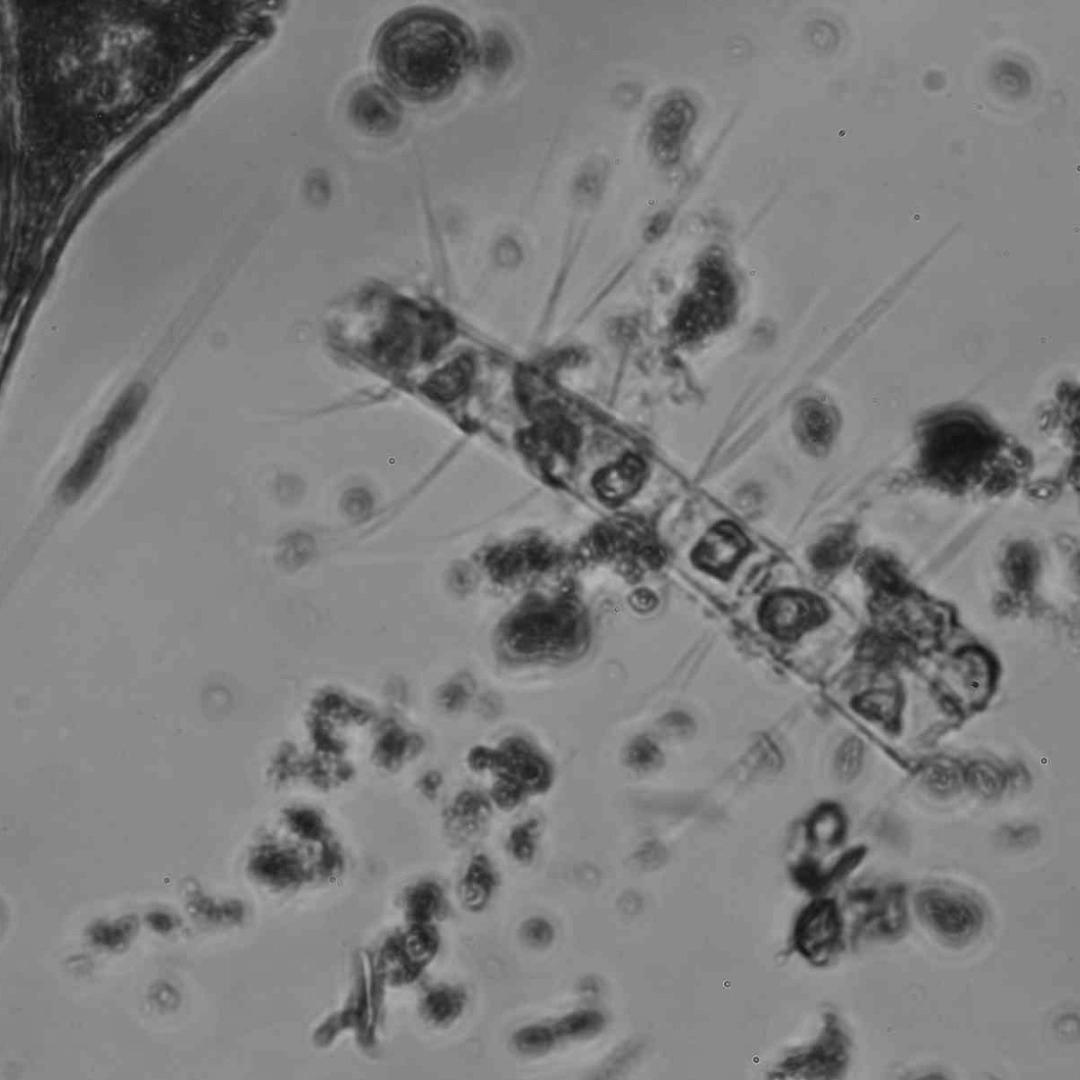chaetoceros_curvisetus: (268, 118, 963, 799)
